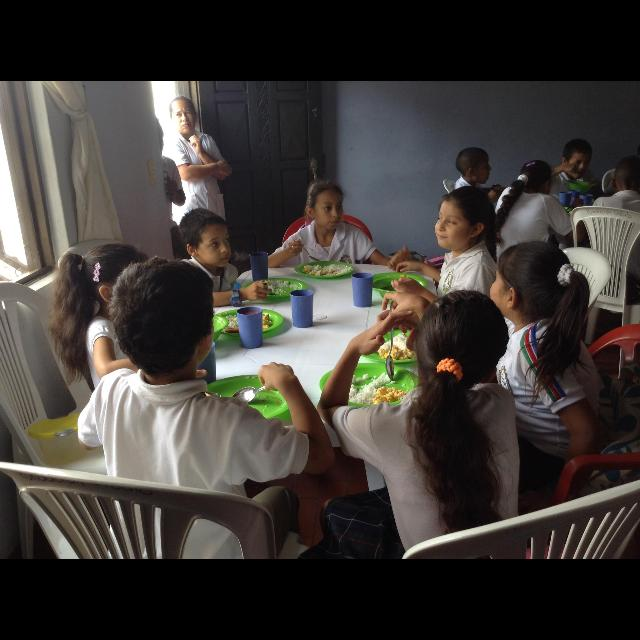head: (110, 258, 216, 368), (406, 288, 510, 396), (489, 241, 573, 317), (86, 244, 146, 316), (434, 186, 496, 252), (180, 208, 232, 268), (305, 180, 345, 232), (456, 147, 492, 185), (520, 160, 554, 198), (562, 140, 594, 180), (168, 96, 198, 136), (136, 115, 164, 157)
person: (45, 242, 233, 540), (148, 207, 276, 436), (390, 184, 506, 430), (258, 178, 412, 352), (487, 158, 585, 332), (448, 146, 518, 336), (163, 95, 234, 277), (540, 138, 606, 310), (134, 112, 188, 310)
